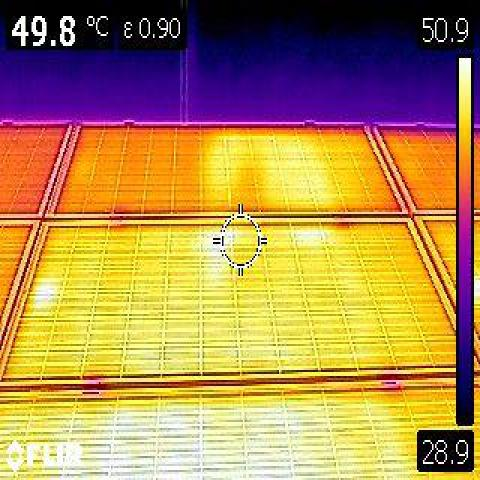fault: (53, 405, 294, 480), (201, 232, 231, 253), (34, 275, 53, 308), (294, 232, 324, 246)
